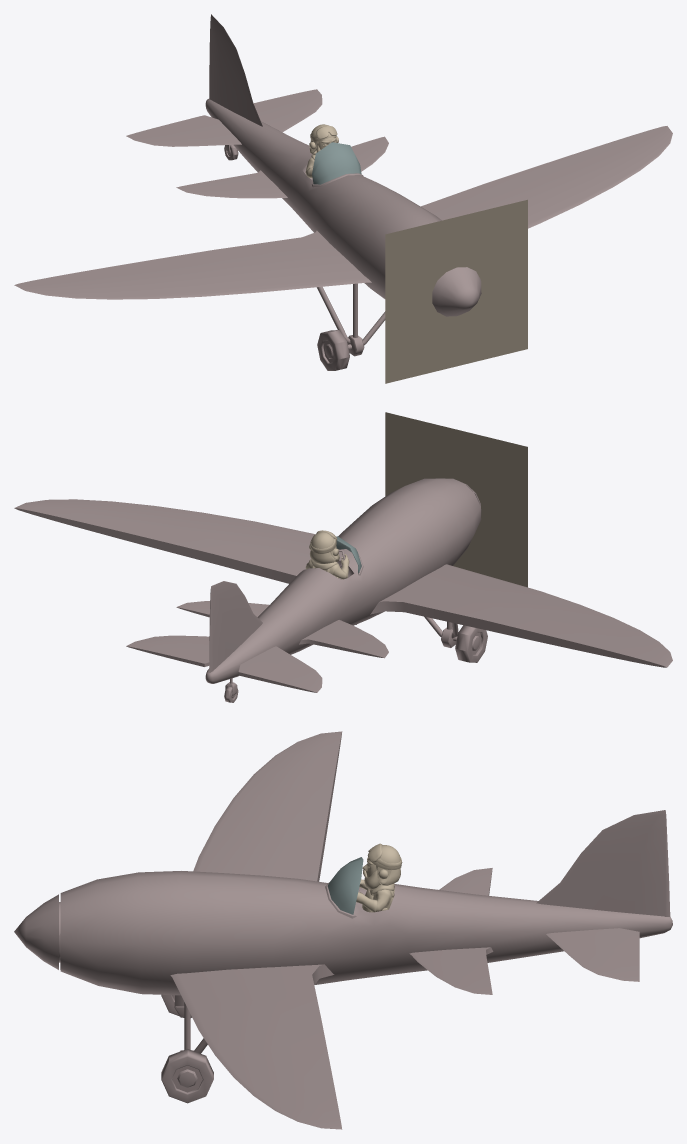
The model's file is a3d_plane_alpha-prop-plus-pilot_03.fbx.
3 renders of one model, top to bottom at view 1: azimuth 30°, elevation 25°; view 2: azimuth 150°, elevation 25°; view 3: azimuth 270°, elevation 25°, orthographic. The views are drawn at different scales.
Visible parts, largest first — view 1: Wing_Big, Propeller_Alpha, Body, Tail_Sides, Tail_Up, Wing_Small, Propeller_Holder, Visor, Wheels_Base, Wheels_Holder; view 2: Wing_Big, Body, Propeller_Alpha, Tail_Sides, Tail_Up, Wing_Small, Wheels_Base, Wheels_Holder, Hat_low, UpdBody_low; view 3: Body, Wing_Big, Tail_Up, Wing_Small, Tail_Sides, Wheels_Base, Propeller_Holder, Visor, UpdBody_low, Hat_low, Wheels_Holder.
Part boxes in pixels (x1,y1,x2,y2): Wing_Big: (14, 126, 672, 299); Propeller_Alpha: (385, 199, 527, 383); Body: (205, 99, 441, 298); Tail_Sides: (126, 89, 322, 146); Tail_Up: (209, 14, 262, 126); Wing_Small: (176, 136, 388, 198); Propeller_Holder: (432, 267, 481, 316); Visor: (312, 142, 361, 184); Wheels_Base: (224, 145, 349, 370); Wheels_Holder: (225, 145, 385, 356); Wing_Big: (14, 499, 672, 667); Body: (205, 478, 481, 683); Propeller_Alpha: (385, 412, 527, 587); Tail_Sides: (126, 635, 322, 692); Tail_Up: (209, 581, 262, 672); Wing_Small: (176, 601, 388, 658); Wheels_Base: (224, 625, 487, 702); Wheels_Holder: (225, 616, 458, 695); Hat_low: (309, 530, 338, 559); UpdBody_low: (305, 554, 349, 579); Body: (60, 871, 672, 995); Wing_Big: (170, 731, 342, 1129); Tail_Up: (536, 810, 670, 916); Wing_Small: (409, 868, 493, 994); Tail_Sides: (546, 928, 639, 981); Wheels_Base: (161, 994, 213, 1103); Propeller_Holder: (14, 894, 60, 969); Visor: (327, 857, 363, 914); UpdBody_low: (356, 858, 394, 912); Hat_low: (367, 843, 402, 883); Wheels_Holder: (174, 995, 207, 1053).
Size of the model in its own units: 9.96 by 2.89 by 6.96.
